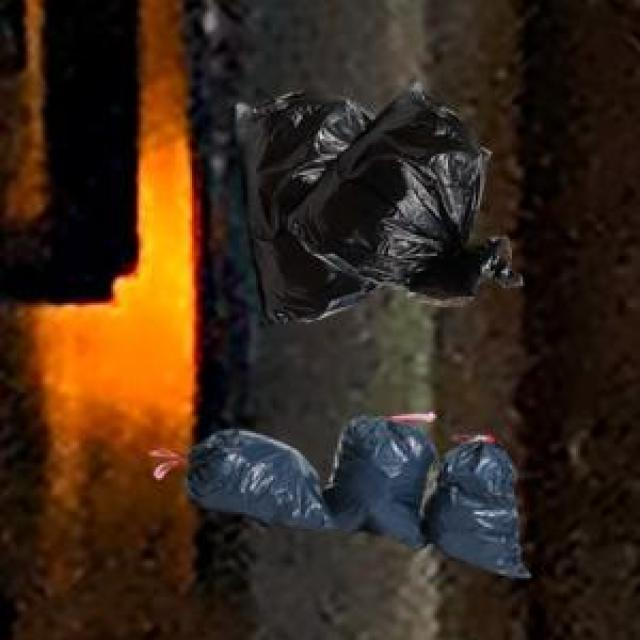waste: (238, 89, 508, 320), (190, 411, 528, 578)
